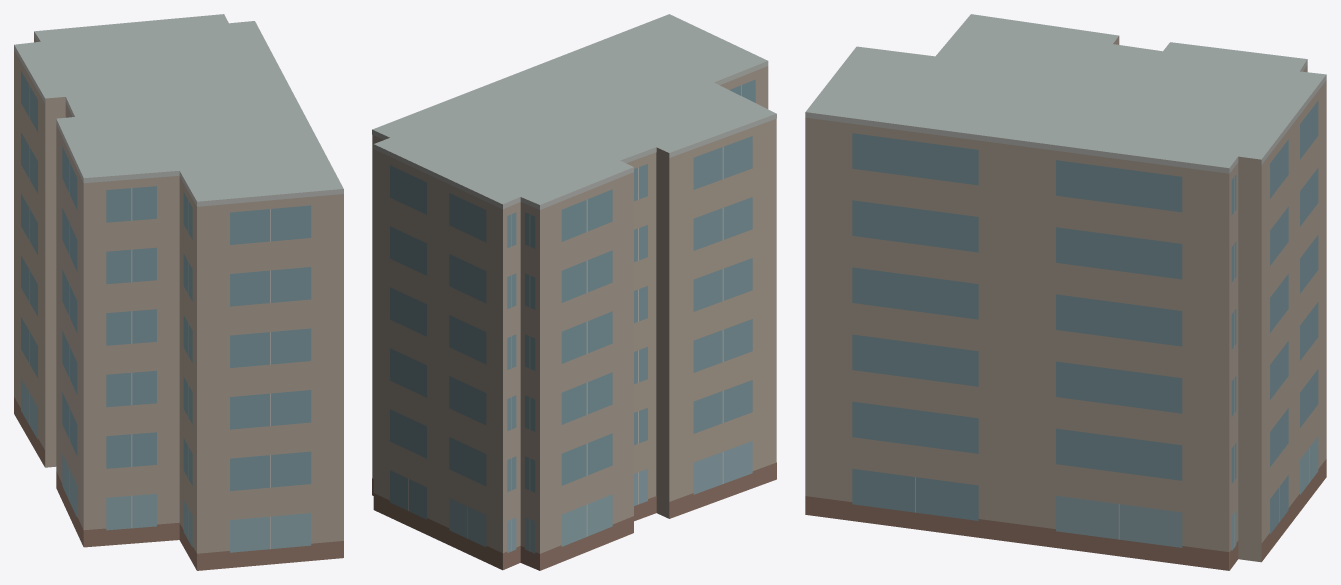
The model's file is survey-upis-32993924.glb.
3 renders of one model, left to right at view 1: azimuth 30°, elevation 25°; view 2: azimuth 150°, elevation 25°; view 3: azimuth 270°, elevation 25°, orthographic. The views are drawn at different scales.
Visible parts, largest first — view 1: survey-upis-32993924.tmp; view 2: survey-upis-32993924.tmp; view 3: survey-upis-32993924.tmp.
Part boxes in pixels (bbox=[...]): survey-upis-32993924.tmp: bbox=[14, 14, 343, 570]; survey-upis-32993924.tmp: bbox=[372, 14, 776, 570]; survey-upis-32993924.tmp: bbox=[805, 14, 1326, 570].
Bounding box in the file's own units: 14.71 × 17.9 × 21.01.
